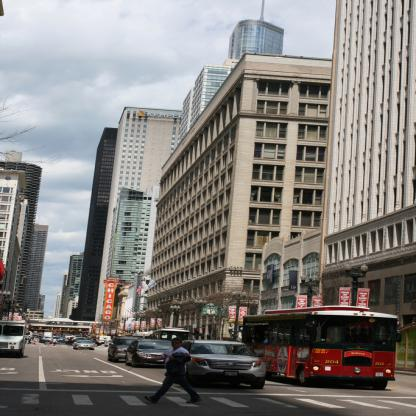Car: (170, 335, 275, 390), (39, 329, 97, 353), (131, 338, 173, 364), (110, 337, 142, 361), (104, 337, 131, 358), (70, 340, 91, 352)
